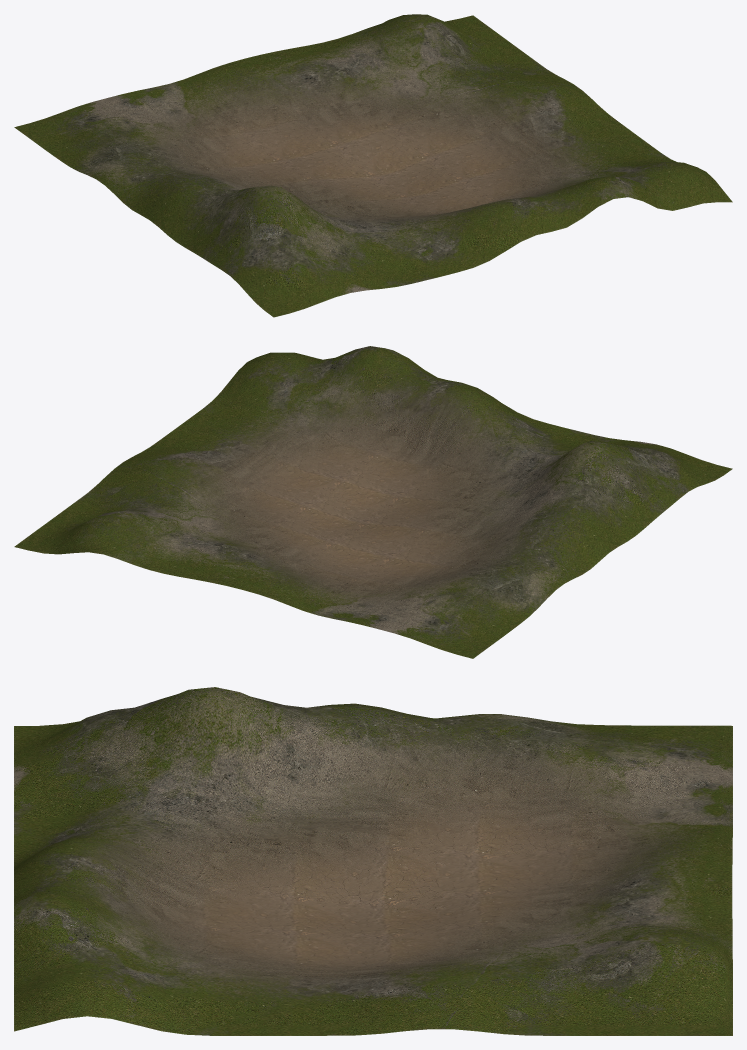
The model's file is TestSCen.obj.
The picture shows the model from 3 angles, top to bottom: view 1: azimuth 30°, elevation 25°; view 2: azimuth 150°, elevation 25°; view 3: azimuth 270°, elevation 25°; orthographic projection. The views are drawn at different scales.
Parts seen in each view (by area): view 1: pPlane1; view 2: pPlane1; view 3: pPlane1.
Part boxes in pixels (<box>): pPlane1: <box>14,14,732,317</box>; pPlane1: <box>14,346,732,658</box>; pPlane1: <box>14,687,732,1035</box>.
Size of the model in its own units: 23.92 by 3.7 by 23.45.
1 material, 1 textured.
